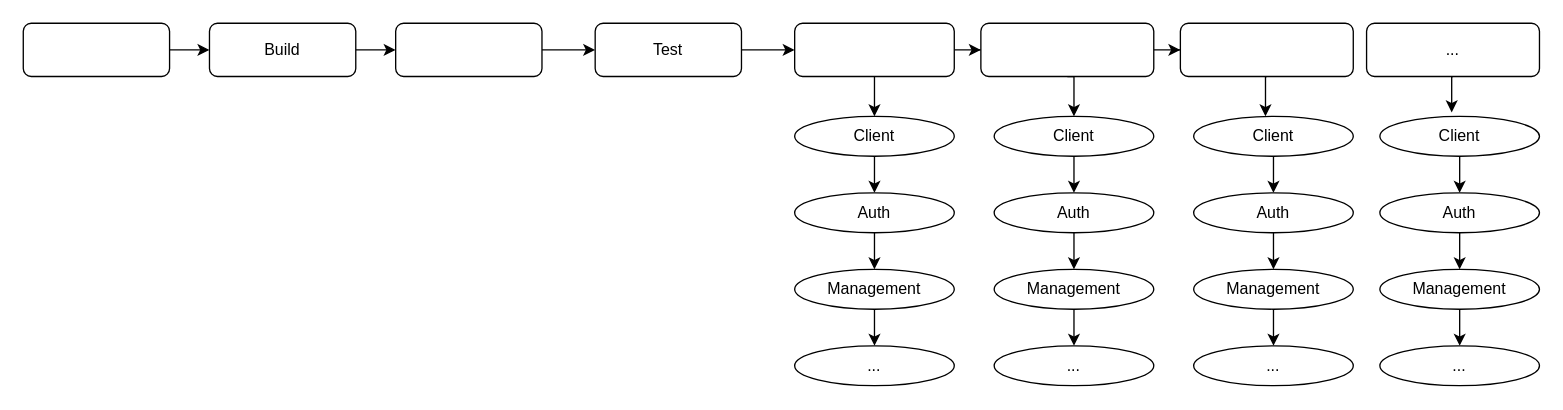
Some shapes in this 1563 by 410 pixel diagram are drawn without their labels. The centre of each missing label's shape, as x and y in pixels:
"Compile" goes at point 96,49.
"Losolo" goes at point 873,49.
"Prepare" goes at point 468,49.
"Prod" goes at point 1266,49.
"Unsolo" goes at point 1067,49.
